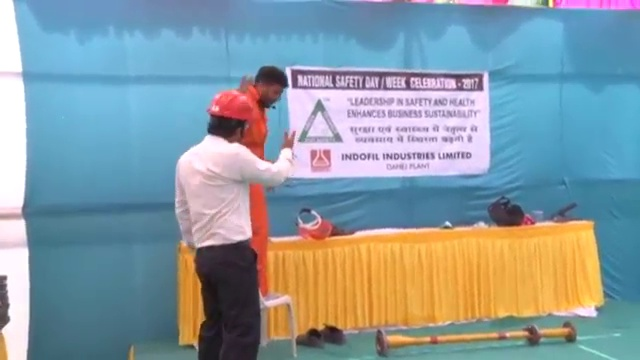helmet: (207, 90, 254, 123)
helmet_off: (249, 64, 286, 114)
helmet_on: (205, 88, 255, 143)
person: (171, 89, 296, 360), (240, 61, 283, 295)
